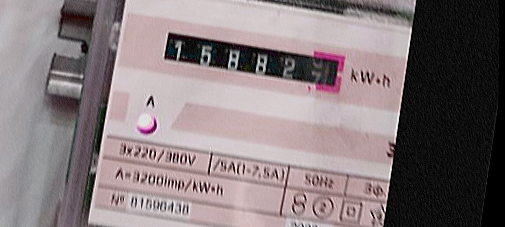1: (170, 35, 187, 59)
2: (279, 53, 298, 79)
5: (197, 39, 214, 66)
7: (308, 65, 323, 83)
8: (252, 49, 269, 75), (225, 45, 241, 70)
screen: (152, 19, 355, 102)
